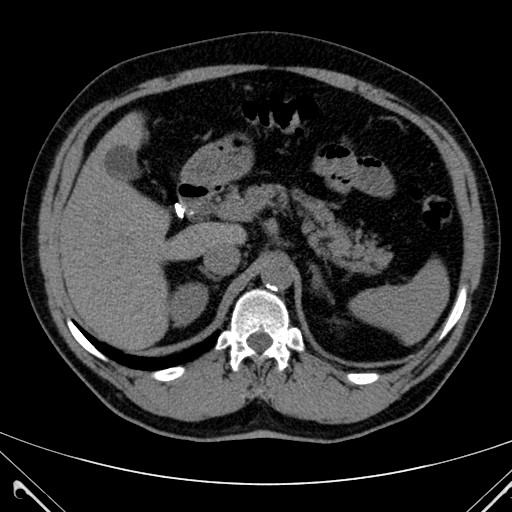clipe: (173, 201, 185, 219)
